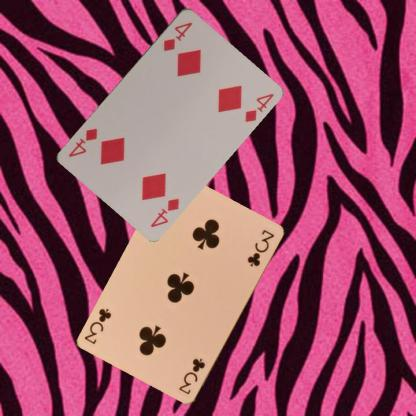3c: (176, 356, 207, 396)
4d: (147, 195, 181, 228), (160, 19, 193, 52)
